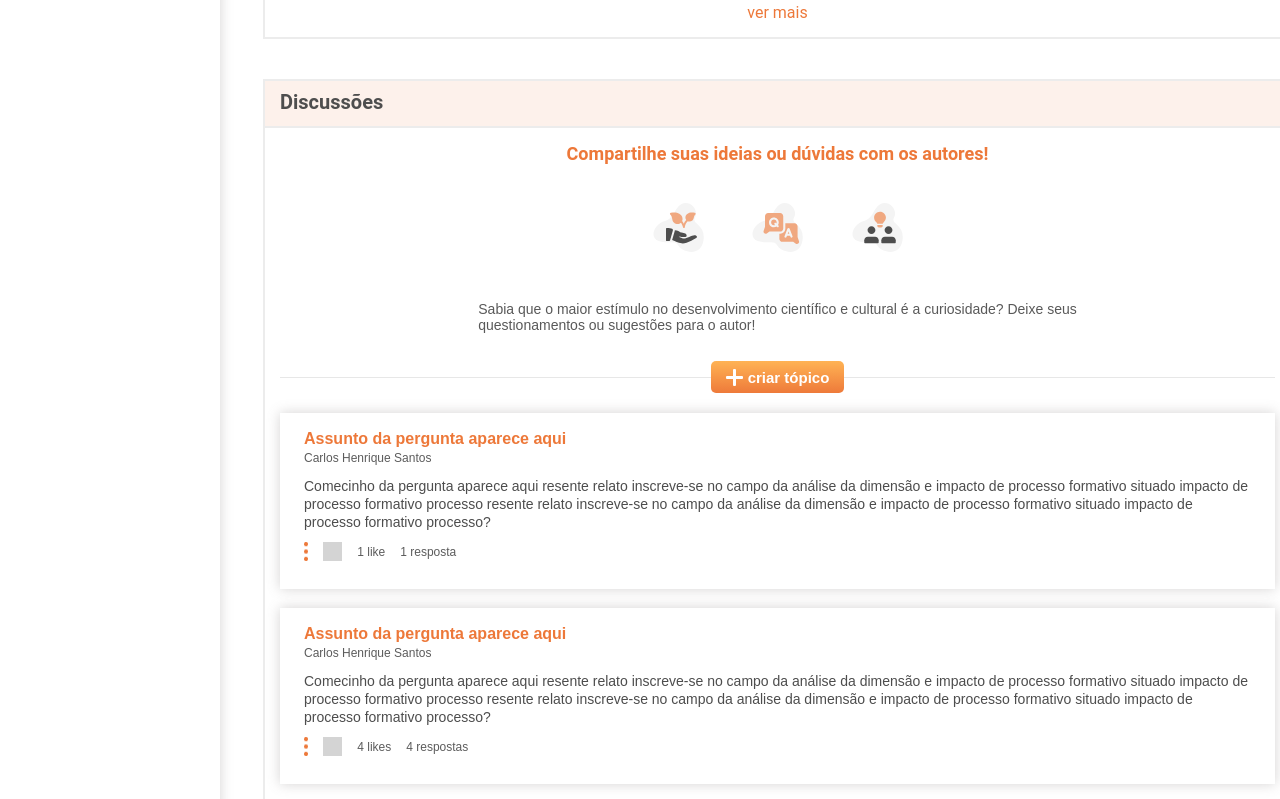
Test: checa elementos básicos › clicar em `criar tópico` exibe o formulário
(page scrolled)
Click the button with class "btn-create-topic": (778, 377) [711,361,844,393]
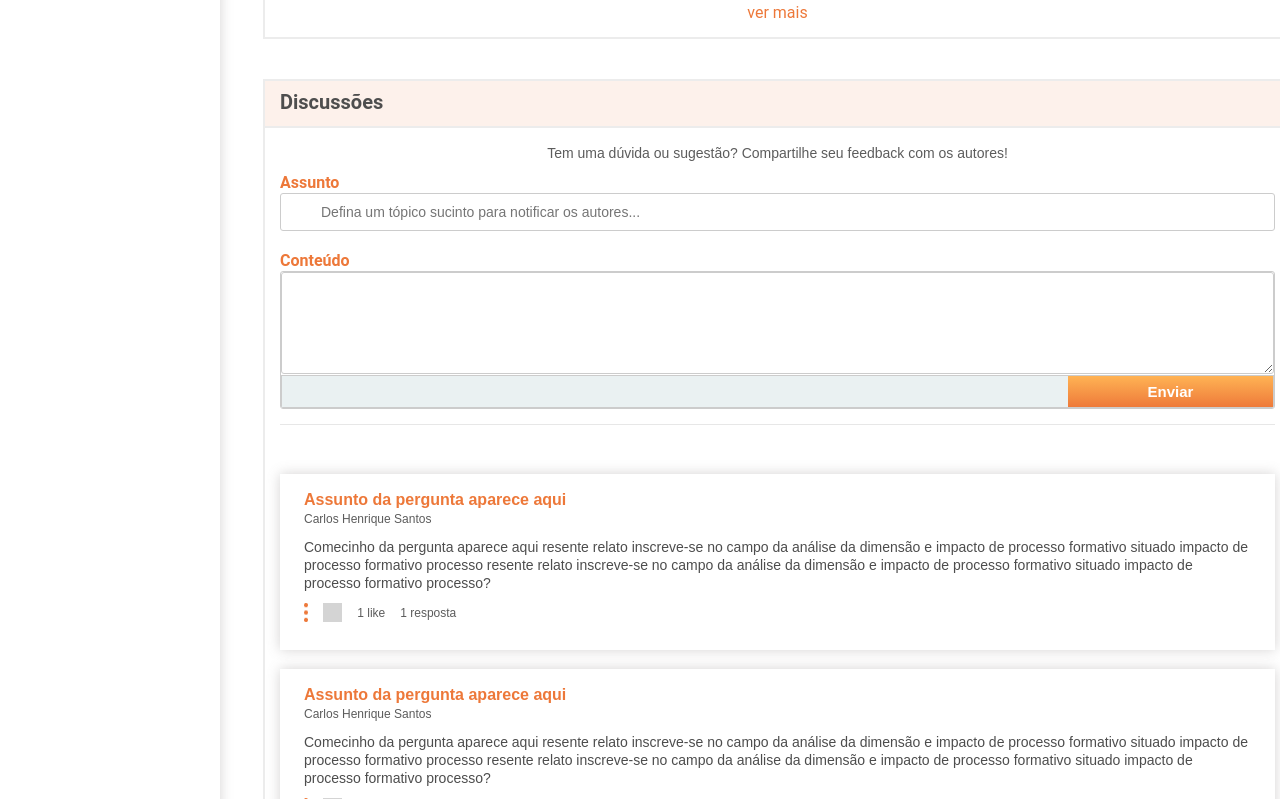
Expected: the button "Enviar" is shown, [1068,376,1273,407]
Expected: the heading "Assunto" is shown, [280,173,339,192]
Expected: the heading "Conteúdo" is shown, [280,251,350,270]
